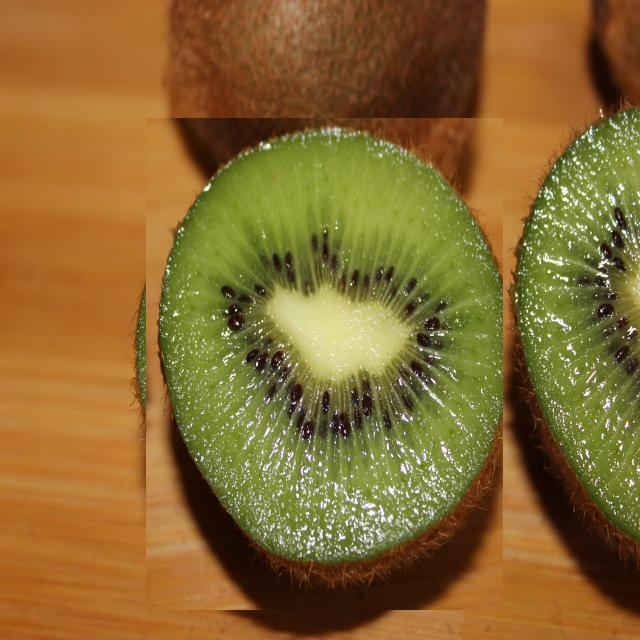Qiwi: (146, 118, 503, 610), (520, 90, 640, 565)
